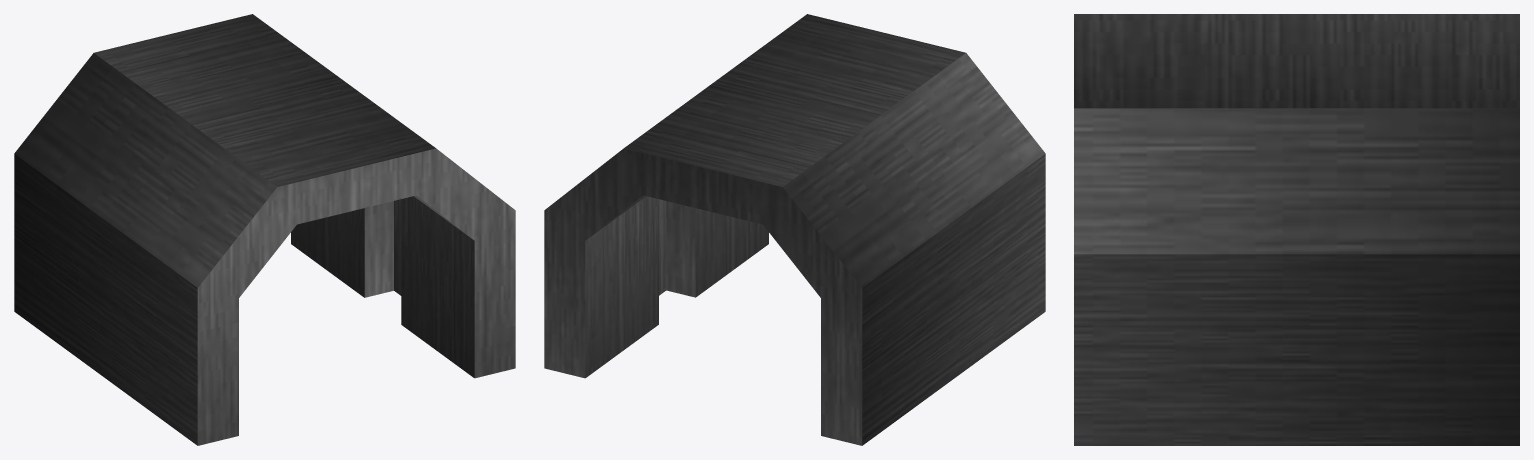
The model's file is Hallway Straight Section.fbx.
The picture shows the model from 3 angles, left to right: view 1: azimuth 30°, elevation 25°; view 2: azimuth 150°, elevation 25°; view 3: azimuth 270°, elevation 25°; orthographic projection. The views are drawn at different scales.
Parts seen in each view (by area): view 1: BaseHallway1; view 2: BaseHallway1; view 3: BaseHallway1.
Boxes of the visible parts, box(x1,y1,x2,y2) form: BaseHallway1: box(14, 14, 515, 445); BaseHallway1: box(544, 14, 1045, 445); BaseHallway1: box(1074, 14, 1519, 445).
Size of the model in its own units: 4 by 2.88 by 4.
1 material, 1 textured.
